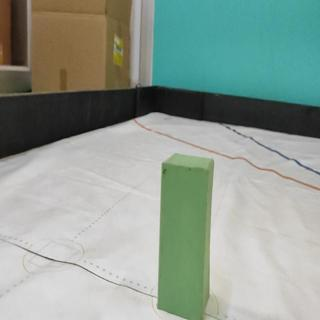greenbox: (155, 151, 214, 320)
